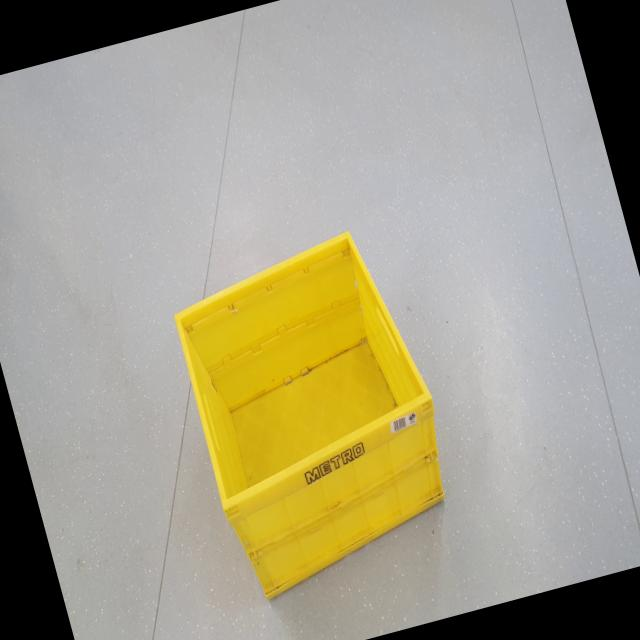box: (150, 216, 477, 611)
